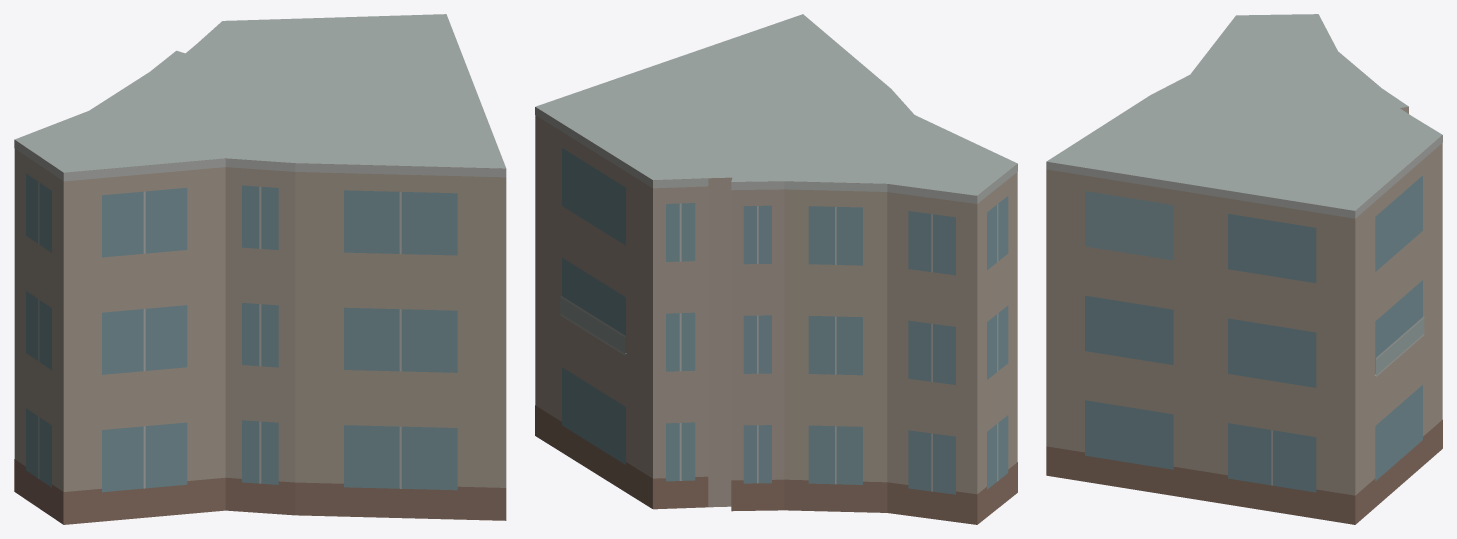
The model's file is survey-upis-32461536.glb.
3 renders of one model, left to right at view 1: azimuth 30°, elevation 25°; view 2: azimuth 150°, elevation 25°; view 3: azimuth 270°, elevation 25°, orthographic. The views are drawn at different scales.
Parts seen in each view (by area): view 1: survey-upis-32461536.tmp; view 2: survey-upis-32461536.tmp; view 3: survey-upis-32461536.tmp.
Boxes of the visible parts, x1,y1,x2,y2 form: survey-upis-32461536.tmp: [14, 14, 506, 524]; survey-upis-32461536.tmp: [535, 14, 1017, 524]; survey-upis-32461536.tmp: [1046, 14, 1442, 524].
Bounding box in the file's own units: 13.19 × 9.8 × 11.22.
